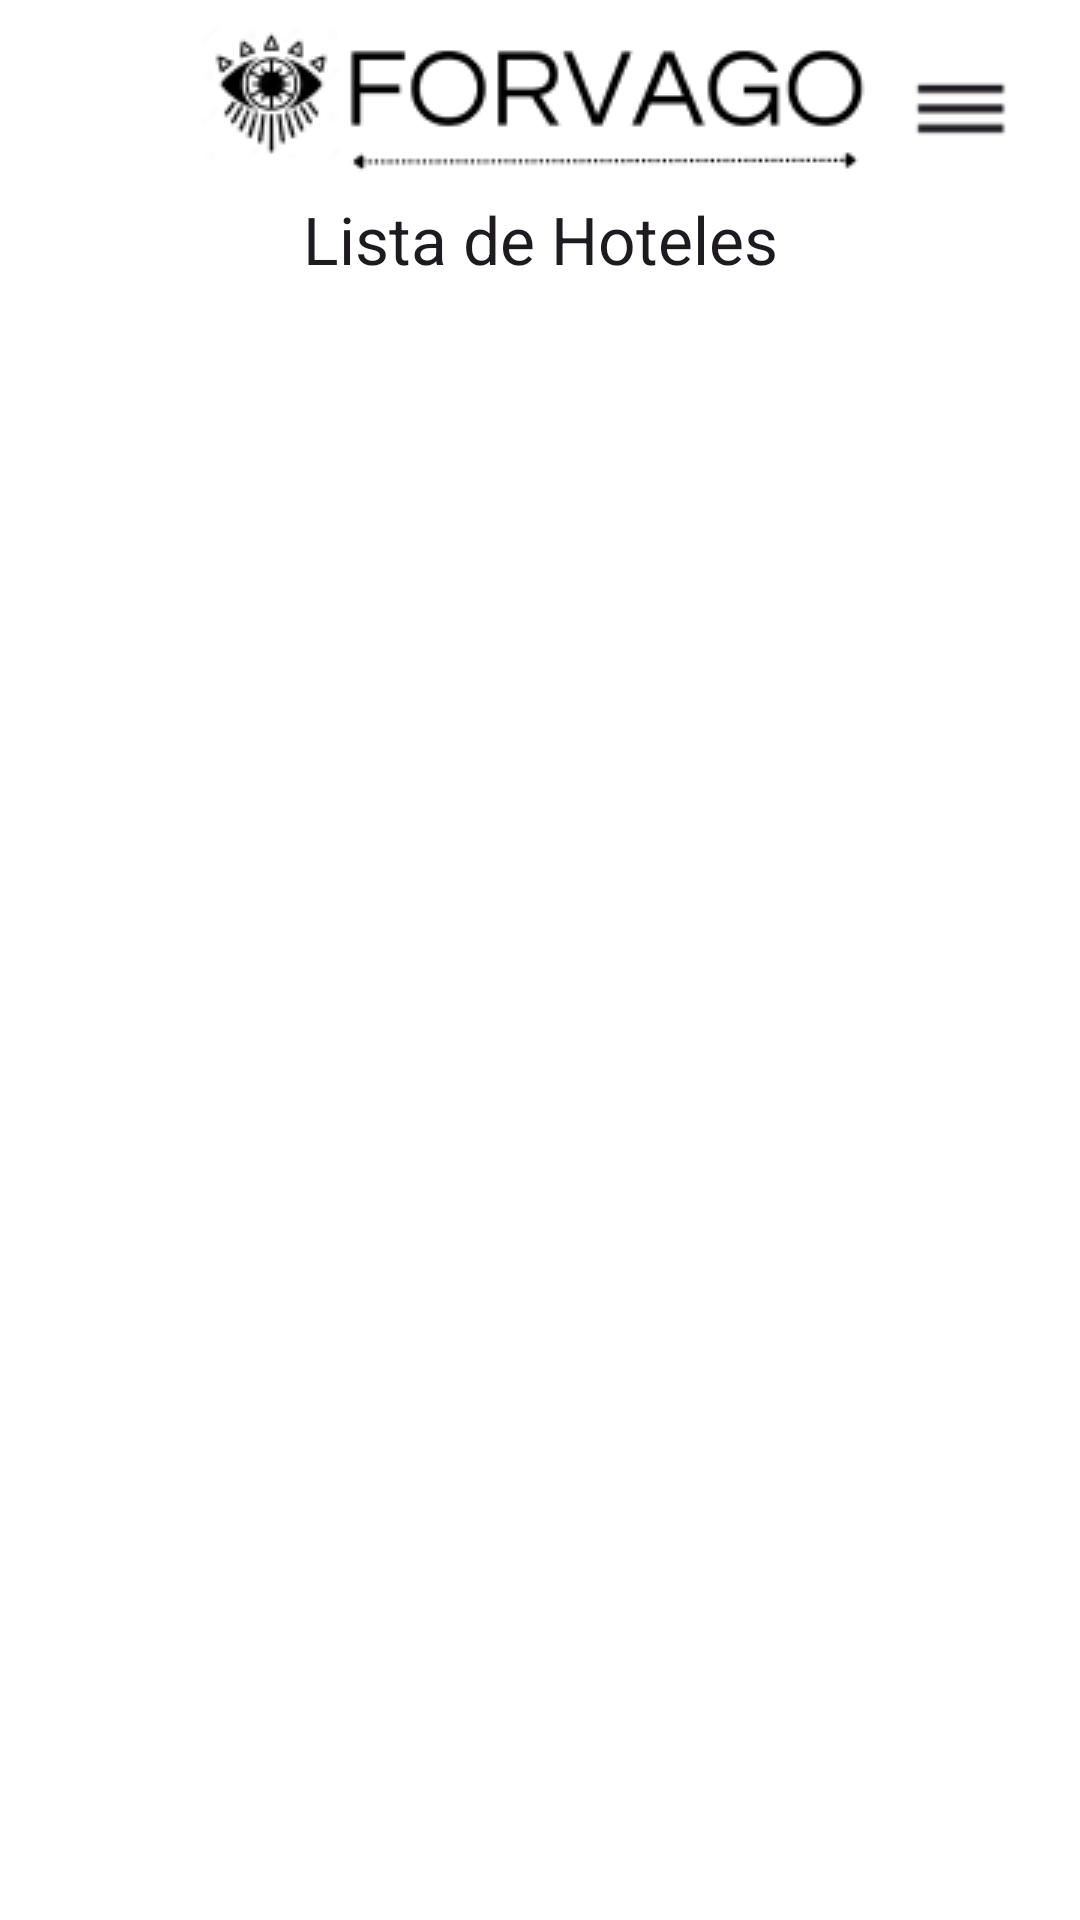

Named icons in this screenshot (1080x1920) and their centers, (x,y):
menu: (961,109)
